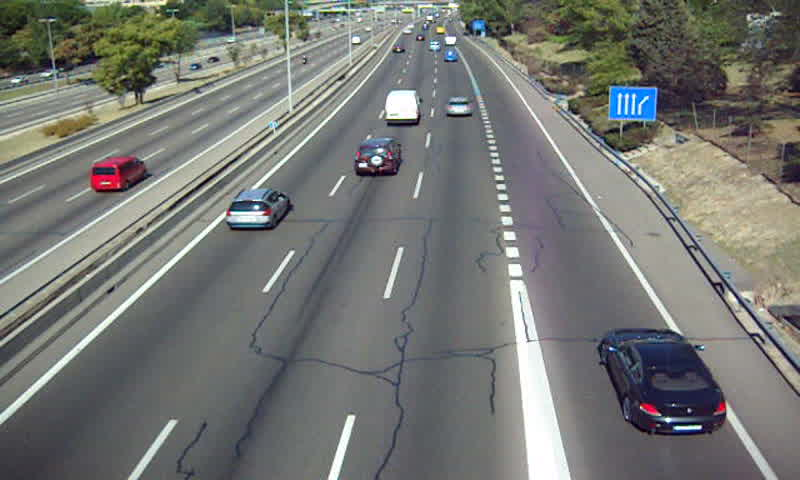car: (600, 328, 726, 433), (227, 188, 290, 229), (356, 139, 401, 177), (445, 97, 473, 117)
van: (384, 90, 422, 123)
